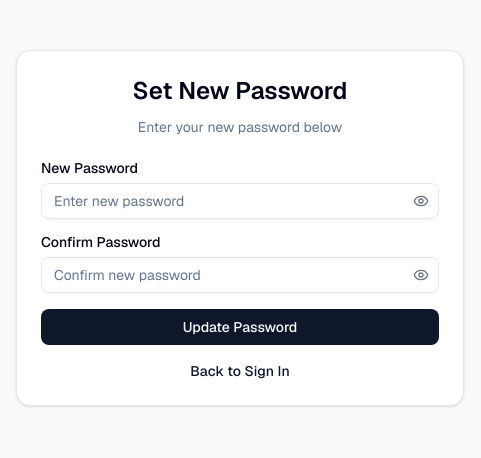
Test: ResetPasswordClient › successfully updates password
Type "NewPassword123!" into the password field labelled "New Password".
click(240, 201); type("NewPassword123!")  # box [41,183,439,219]
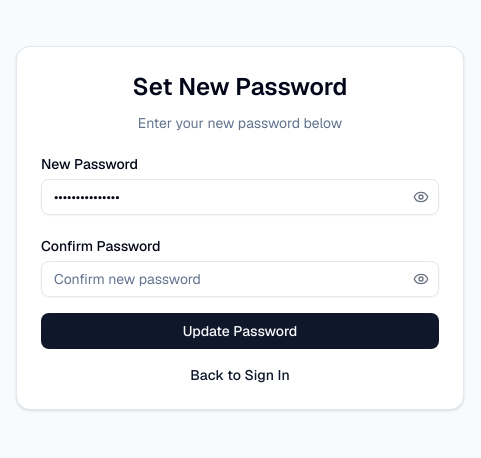
Type "NewPassword123!" into the password field labelled "Confirm Password".
click(240, 279); type("NewPassword123!")  # box [41,261,439,297]
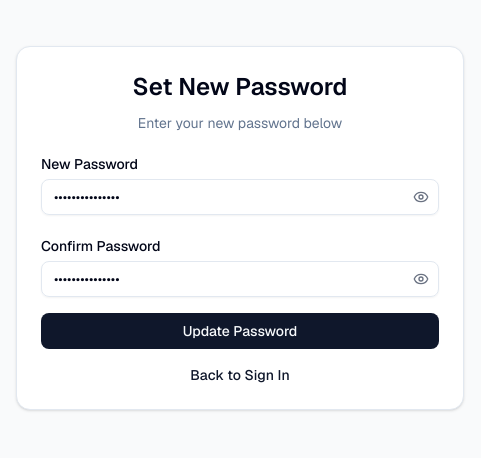
Click the button "Update Password".
click(240, 331)  # box [41,313,439,349]
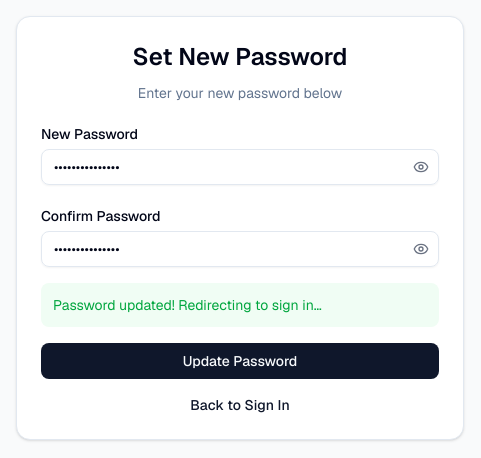
Result: the text "Password updated! Redirecting to sign in…" is shown at [41,283,439,327]
